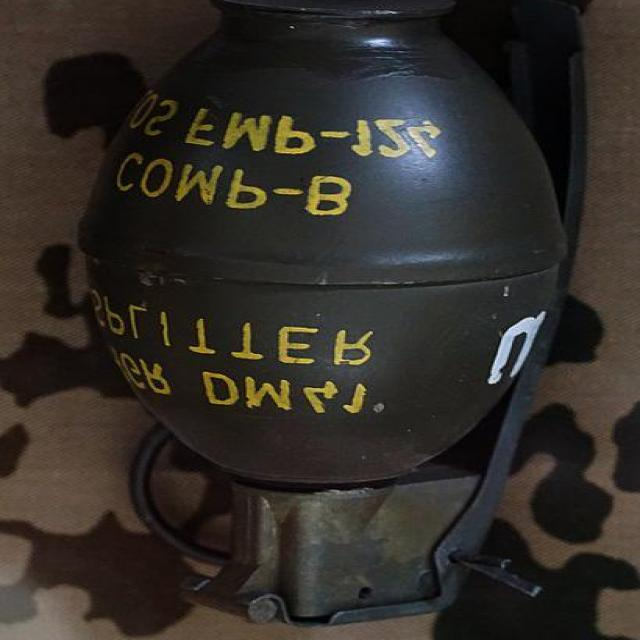grenade: (74, 3, 591, 628)
